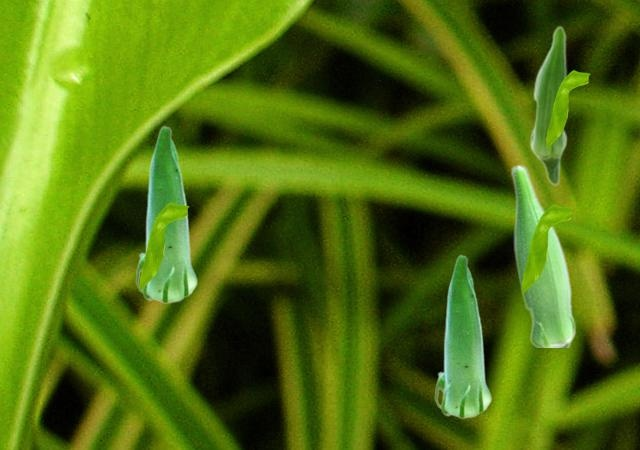okra: (510, 164, 574, 346), (135, 125, 197, 303), (434, 254, 491, 418), (529, 25, 567, 185)
